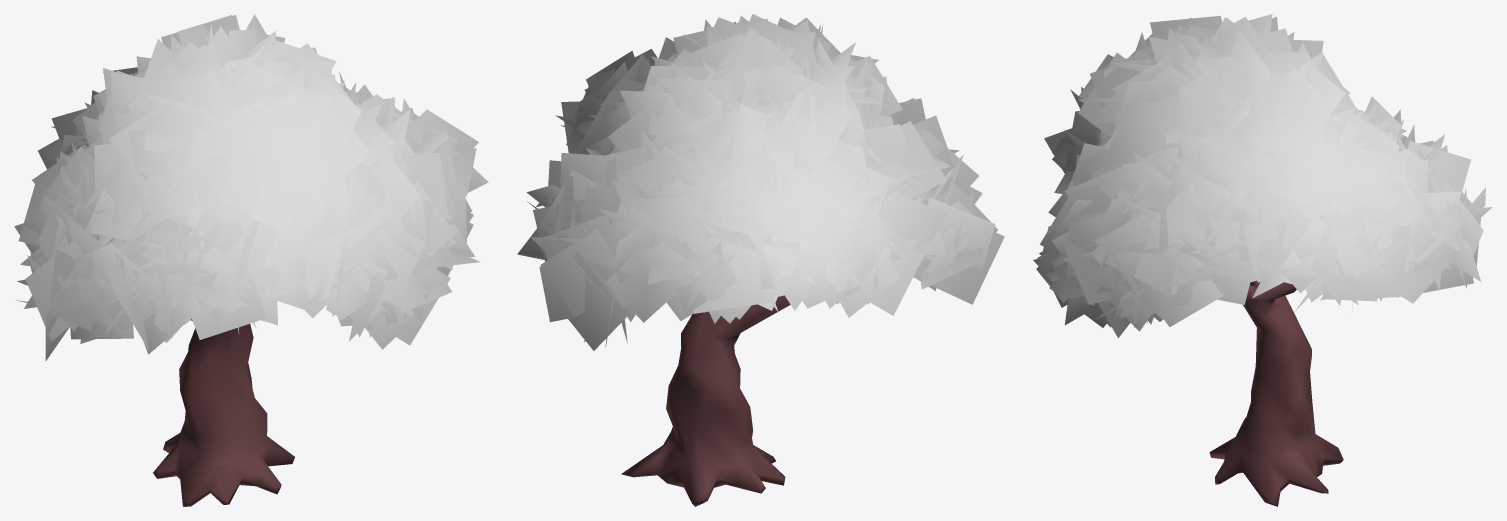
Rendered from ArvoreV2.2-Final.fbx.
3 renders of one model, left to right at view 1: azimuth 30°, elevation 25°; view 2: azimuth 150°, elevation 25°; view 3: azimuth 270°, elevation 25°, orthographic. The views are drawn at different scales.
Parts seen in each view (by area): view 1: tree_LOD0; view 2: tree_LOD0; view 3: tree_LOD0.
Boxes of the visible parts, x1,y1,x2,y2 form: tree_LOD0: (14,14,488,506); tree_LOD0: (517,14,1004,506); tree_LOD0: (1033,14,1492,506).
Size of what is drawn, in the model's own units: 5.93 by 6.06 by 5.63.
